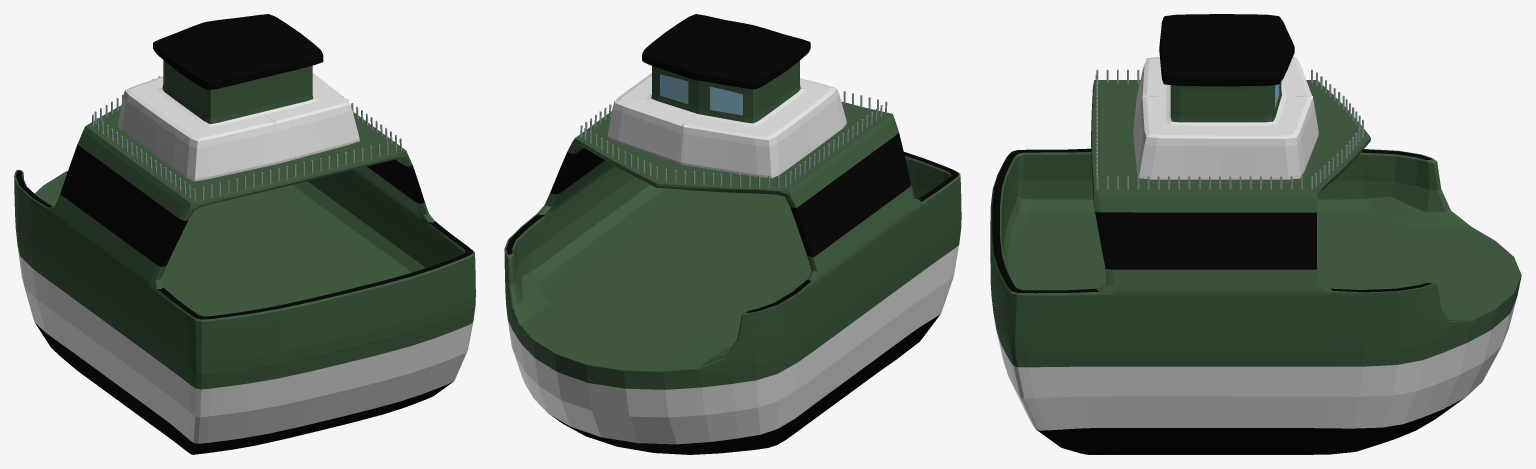
Rendered from Ferry.fbx.
3 renders of one model, left to right at view 1: azimuth 30°, elevation 25°; view 2: azimuth 150°, elevation 25°; view 3: azimuth 270°, elevation 25°, orthographic. The views are drawn at different scales.
Visible parts, largest first — view 1: Ferry, Captains Quarters, Handrail; view 2: Ferry, Captains Quarters, Handrail; view 3: Ferry, Captains Quarters, Handrail.
Boxes of the visible parts, x1,y1,x2,y2 form: Ferry: (14,105,475,454); Captains Quarters: (118,14,359,181); Handrail: (92,76,401,201); Ferry: (504,101,961,454); Captains Quarters: (607,14,846,178); Handrail: (580,91,887,187); Ferry: (990,80,1521,454); Captains Quarters: (1133,14,1318,179); Handrail: (1095,69,1363,189).
Size of the model in its own units: 200 by 238 by 310.
